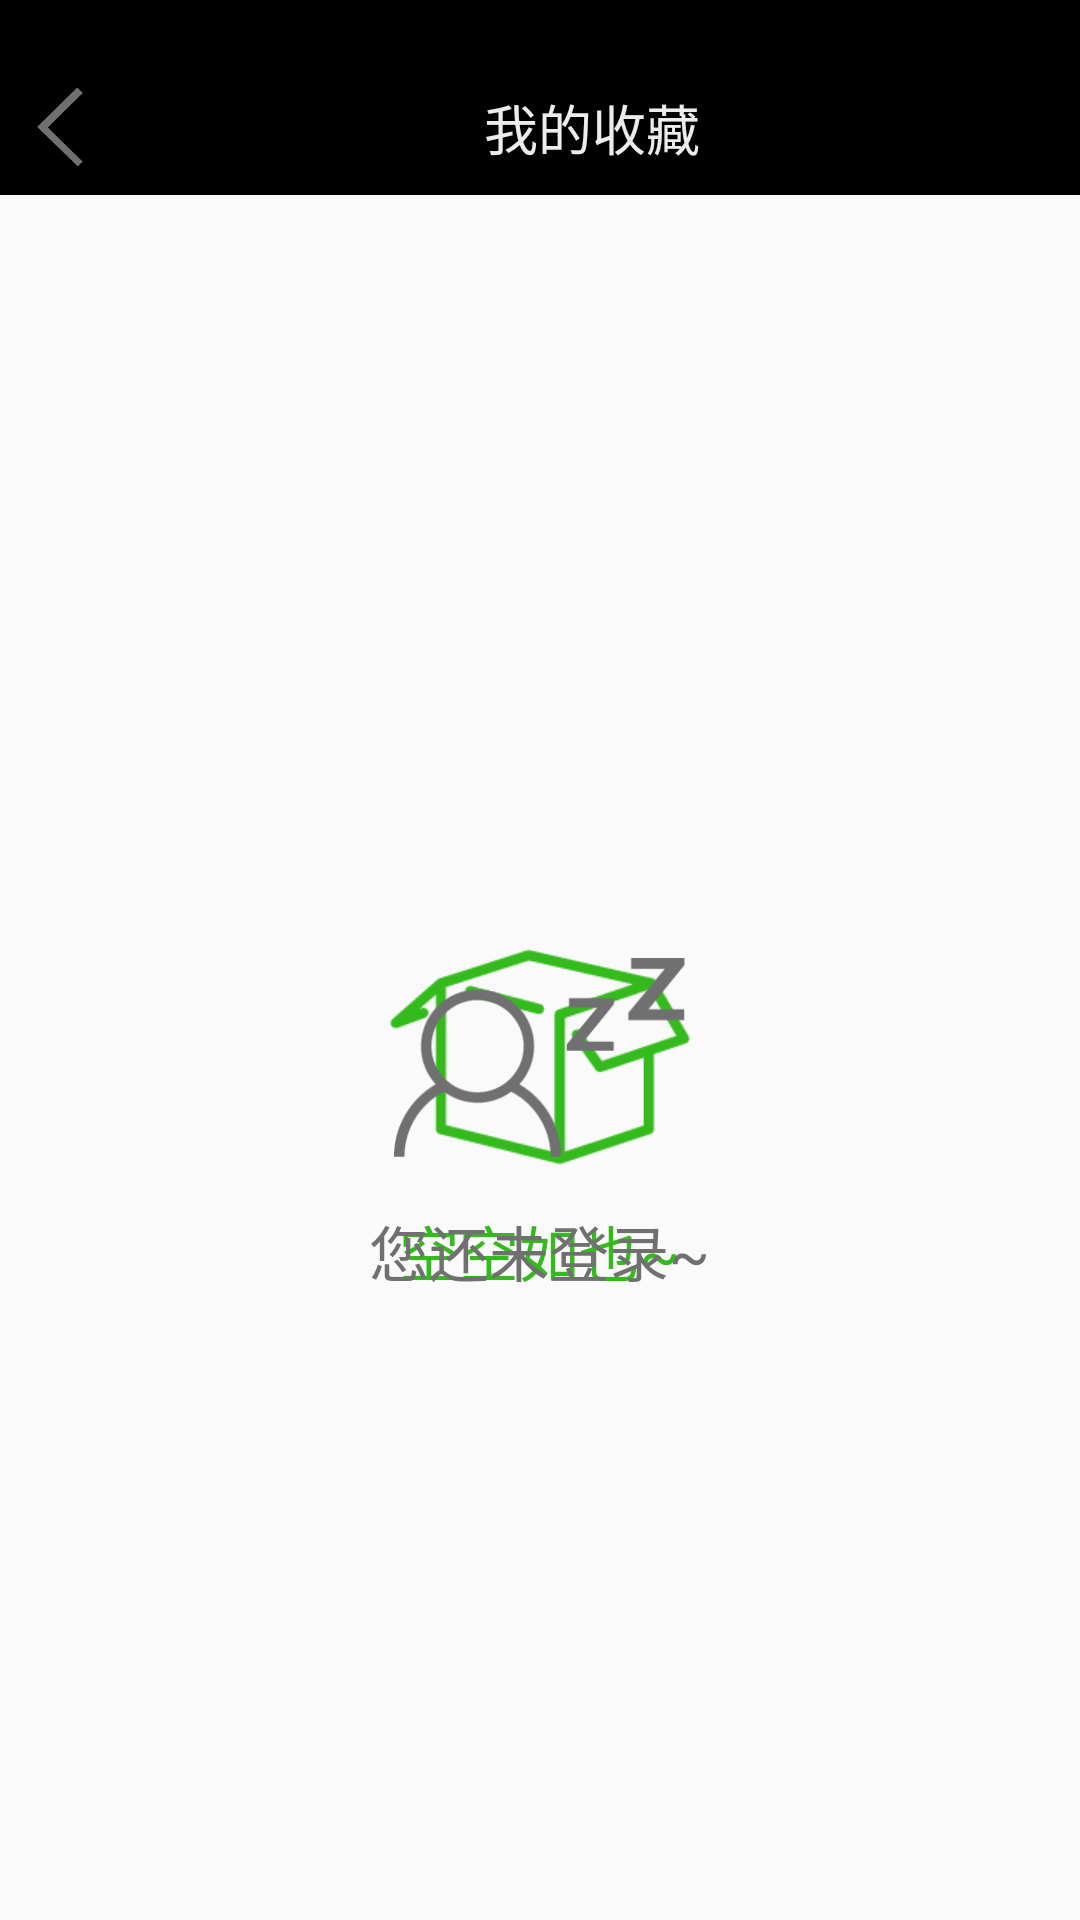

Where to tap for icons on this 1080 × 1920 app screen, as (x,y):
leftdir: (60,127)
